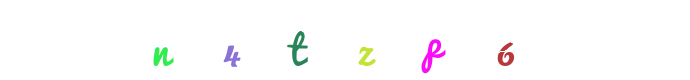4: (252, 0, 332, 80)
6: (465, 0, 545, 80)
N: (198, 0, 278, 80)
P: (391, 0, 471, 80)
T: (294, 0, 374, 80)
Z: (305, 0, 385, 80)
